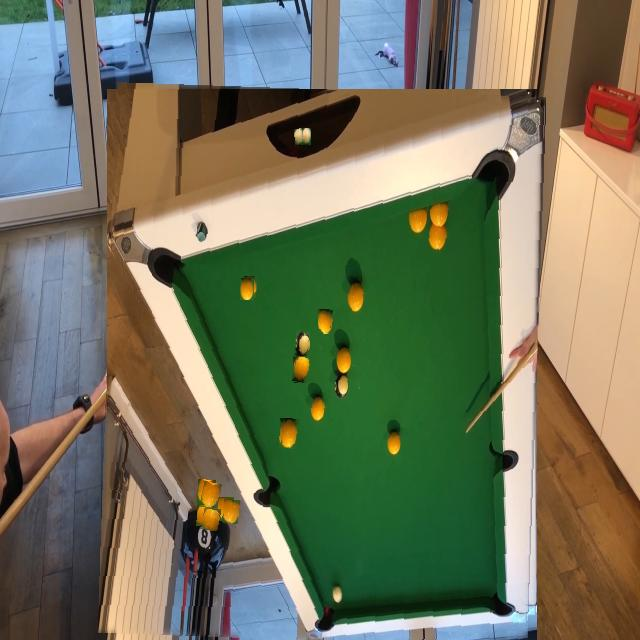Ball: (201, 482, 221, 510), (281, 419, 299, 449), (201, 506, 220, 531), (292, 357, 309, 384), (222, 500, 240, 524), (294, 332, 310, 356), (318, 309, 331, 333), (240, 278, 254, 300), (294, 128, 303, 145)
Billiard table: (102, 85, 541, 640)
